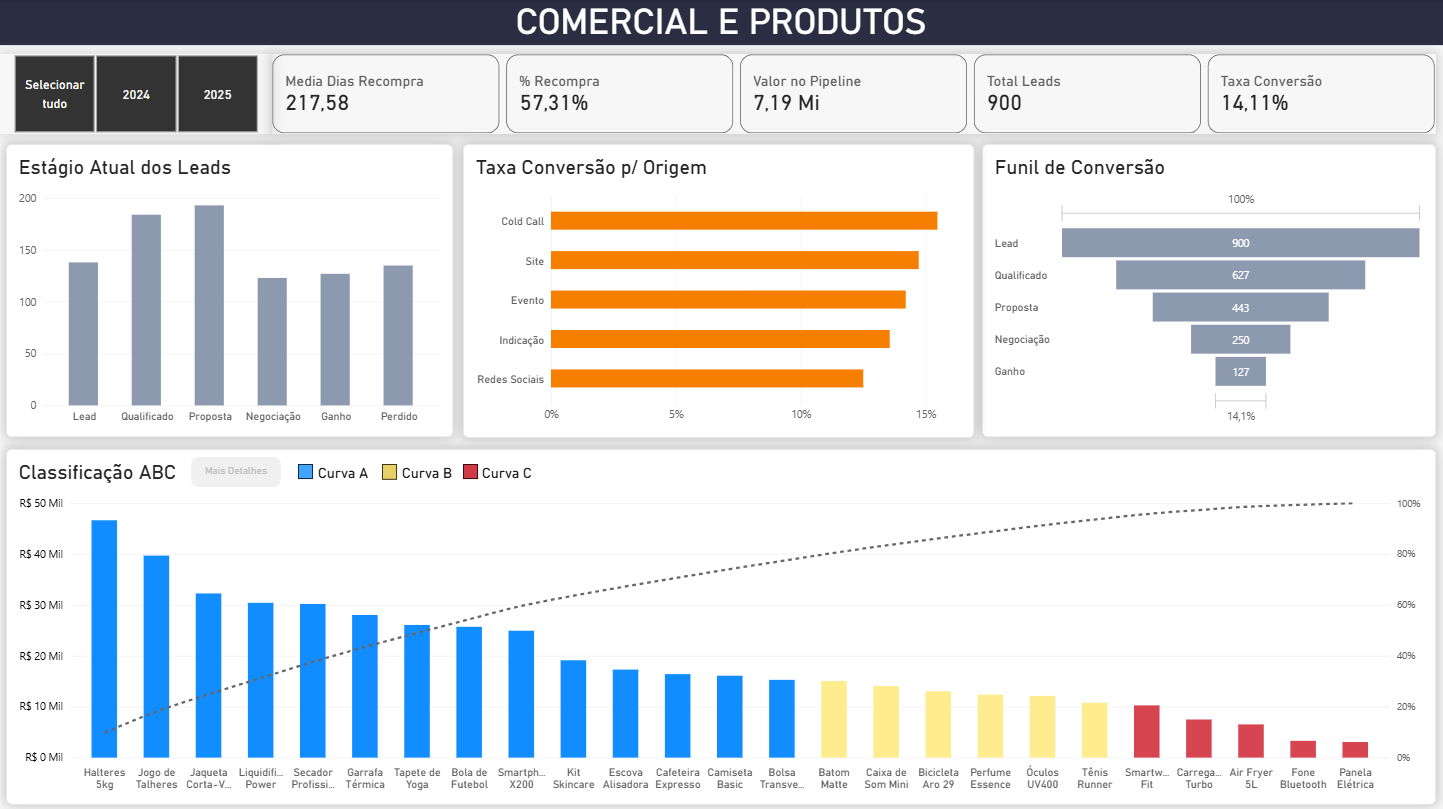

This screenshot's page, from the dashboard's own definition file:
{"tool":"powerbi","page":{"name":"Comercial","canvas":[1920,1080],"ordinal":1},"visuals":[{"type":"textbox","box":[0,0,1920.6,60],"z":0},{"type":"lineStackedColumnComboChart","title":"Classificação ABC","fields":{"Category":["vendas_2anos.produto"],"Y":["_Medidas.Faturamento Total"],"Y2":["_Medidas.% Acumulada"]},"box":[9.3,597.2,1902,473.5],"z":0,"group":"g1"},{"type":"columnChart","title":"Estágio Atual dos Leads","fields":{"Category":["funil_vendas.estagio_atual"],"Y":["_Medidas.Total Leads"]},"box":[9.3,191.5,594.5,389.7],"z":1000},{"type":"cardVisual","fields":{"Data":["_Medidas.Media Dias Recompra","_Medidas.% Recompra","_Medidas.Valor no Pipeline","_Medidas.Total Leads","_Medidas.Taxa Conversão"]},"box":[363.1,71.8,1548.2,106.4],"z":2000},{"type":"funnel","title":"Funil de Conversão","fields":{"Category":["funil_vendas.estagio_atual"],"Y":["_Medidas.Leads que Atingiram a Etapa"]},"box":[1307.4,191.5,603.8,389.7],"z":3000},{"type":"barChart","title":"Taxa Conversão p/ Origem","fields":{"Category":["funil_vendas.origem"],"Y":["_Medidas.Taxa Conversão"]},"box":[617.1,191.5,679.7,391],"z":4000},{"type":"shape","box":[397.7,616.9,20,20],"z":4000,"group":"g1"},{"type":"group","id":"g1","title":"Grupo 1","box":[9.3,597.2,1902,473.5],"z":5000},{"type":"textbox","box":[423.8,617.7,150.3,37.2],"z":5000,"group":"g1"},{"type":"slicer","fields":{"Values":["dCalendario.Ano"]},"box":[0,71.8,363.1,106.4],"z":6000},{"type":"shape","box":[510,617.7,20,20.8],"z":6000,"group":"g1"},{"type":"textbox","box":[535.4,616.9,150.3,37.2],"z":7000,"group":"g1"},{"type":"shape","box":[616.9,617.7,20,20],"z":8000,"group":"g1"},{"type":"textbox","box":[642.3,616.9,150.3,37.2],"z":9000,"group":"g1"},{"type":"actionButton","box":[255.4,607.8,119.7,39.9],"z":12000,"group":"g1"}]}

Visuals, with their boxes in screenshot pixels (x1, y1, x2, y2), scaled from the page's 1920x1080 canvas onto the 1443x809 screenshot:
textbox: 0, 0, 1442, 45
"Classificação ABC" lineStackedColumnComboChart: 7, 447, 1436, 802
"Estágio Atual dos Leads" columnChart: 7, 143, 454, 435
cardVisual - _Medidas.Media Dias Recompra x _Medidas.% Recompra: 273, 54, 1436, 133
"Funil de Conversão" funnel: 983, 143, 1436, 435
"Taxa Conversão p/ Origem" barChart: 464, 143, 975, 436
shape: 299, 462, 314, 477
"Grupo 1" group: 7, 447, 1436, 802
textbox: 319, 463, 431, 491
slicer - dCalendario.Ano: 0, 54, 273, 133
shape: 383, 463, 398, 478
textbox: 402, 462, 515, 490
shape: 464, 463, 479, 478
textbox: 483, 462, 596, 490
actionButton: 192, 455, 282, 485
